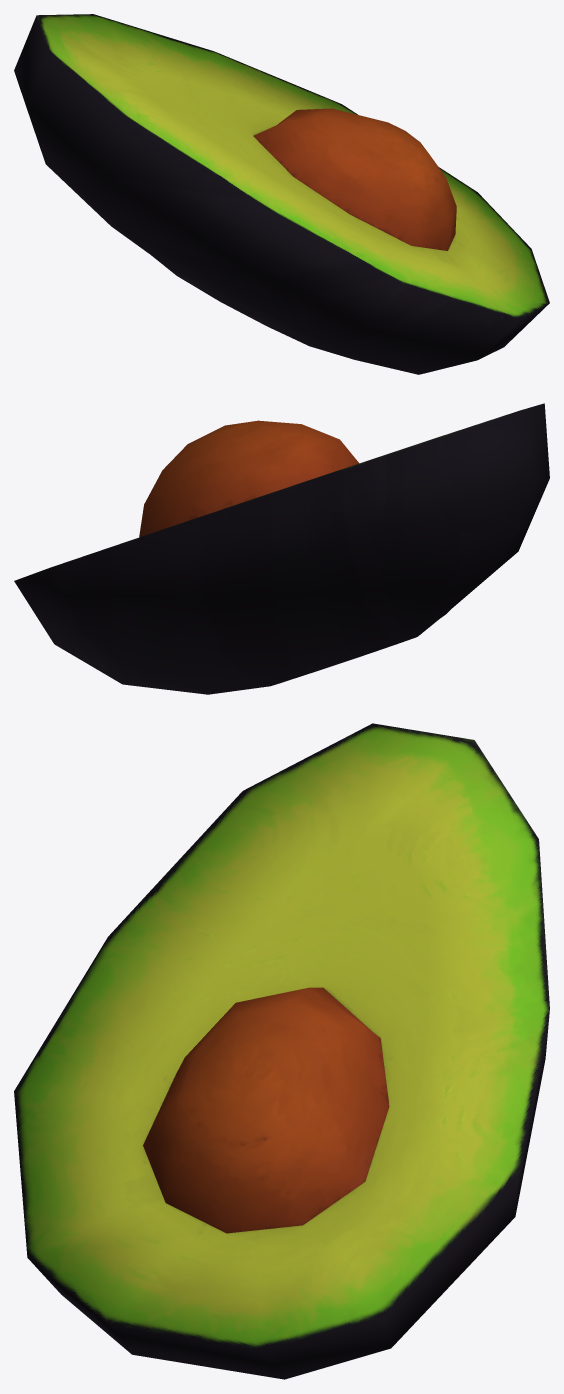
The model's file is avocado.glb.
3 views of the same model, one above another, from view 1: azimuth 30°, elevation 25°; view 2: azimuth 150°, elevation 25°; view 3: azimuth 270°, elevation 25° (orthographic). The views are drawn at different scales.
Visible parts, largest first — view 1: Avocado_lambert1_0; view 2: Avocado_lambert1_0; view 3: Avocado_lambert1_0.
Part boxes in pixels (box(x1,y1,x2,y2)): Avocado_lambert1_0: box(14, 14, 549, 374); Avocado_lambert1_0: box(14, 403, 549, 694); Avocado_lambert1_0: box(14, 723, 549, 1379).
Bounding box in the file's own units: 0.1412 × 0.0985 × 0.1115.
1 material, 1 textured.
